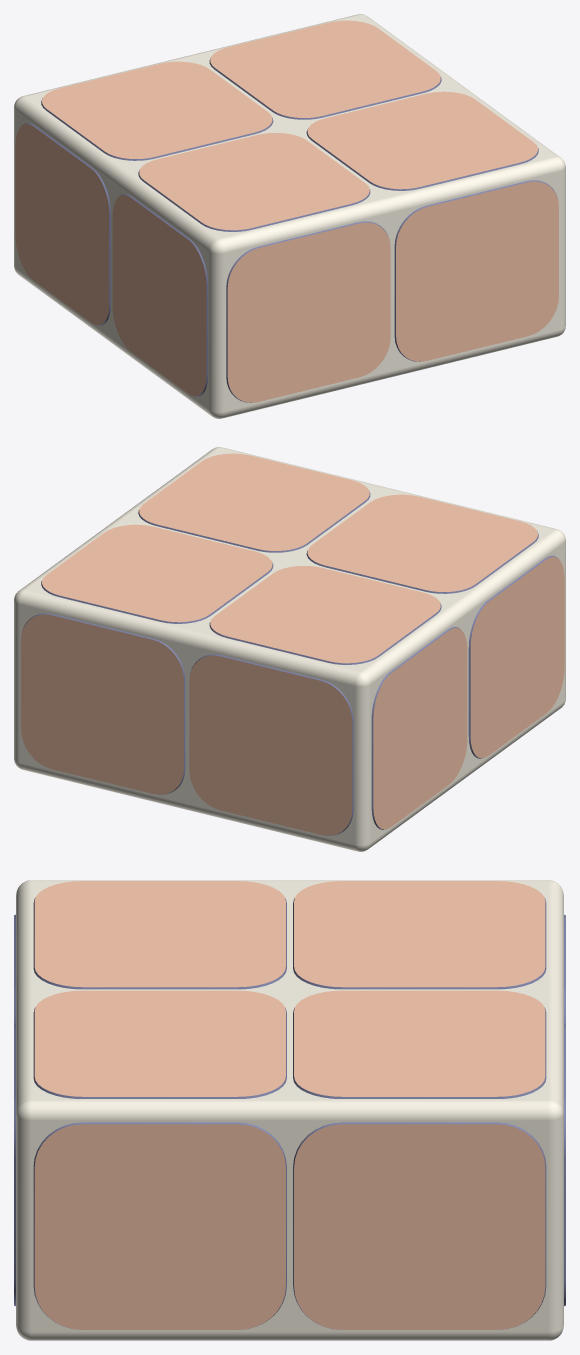
Rendered from R4B_Slab2x2.fbx.
The picture shows the model from 3 angles, top to bottom: view 1: azimuth 30°, elevation 25°; view 2: azimuth 150°, elevation 25°; view 3: azimuth 270°, elevation 25°; orthographic projection. The views are drawn at different scales.
Parts seen in each view (by area): view 1: R4B_Slab2x2; view 2: R4B_Slab2x2; view 3: R4B_Slab2x2.
Part boxes in pixels (box(x1,y1,x2,y2)): R4B_Slab2x2: box(14, 14, 565, 418); R4B_Slab2x2: box(14, 447, 565, 851); R4B_Slab2x2: box(14, 880, 565, 1340).
Size of the model in its own units: 1.07 by 0.52 by 1.07.
